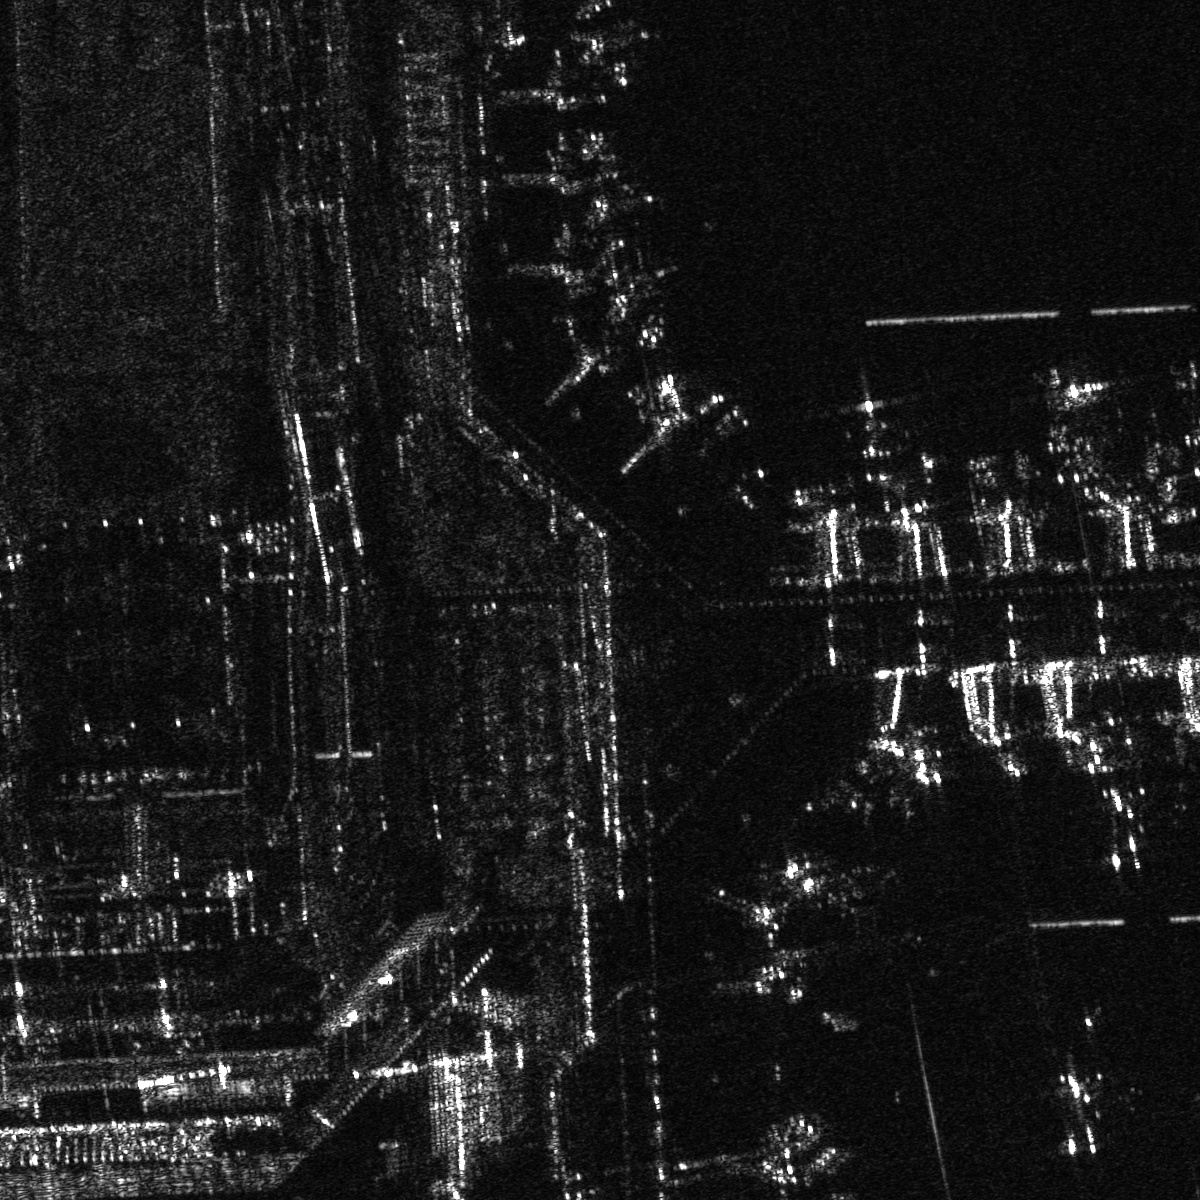A220: (557, 162, 664, 241), (836, 386, 900, 438)
A320/321: (1038, 364, 1115, 423)
Boeing787: (1078, 775, 1159, 873)
other: (1041, 1071, 1114, 1158)
